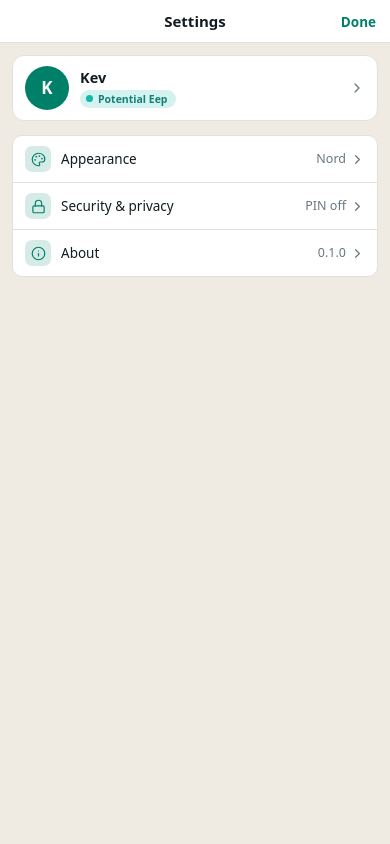
Test case: Settings on phones › a row pushes its section (title, Back) and Back pops it
Click the button "Security & privacy PIN off" at (117,206), box [13,182,377,229]
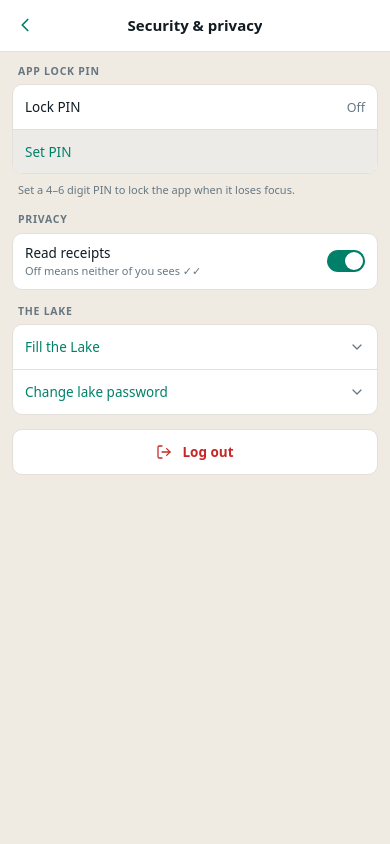
Now the heading "Security & privacy" is shown, box [128,15,262,36]
Now the heading "App Lock PIN" is shown, box [18,64,100,78]
Now the button "Done" is gone
Click the button named "Back" at (25,25), box [10,10,40,40]
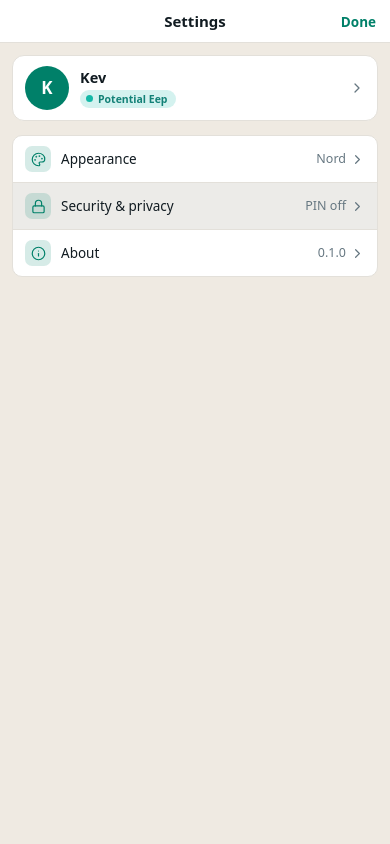
Now the heading "Settings" is shown, box [164,11,226,31]
Now the button with aria-label "Edit profile" is shown, box [12,55,378,121]
